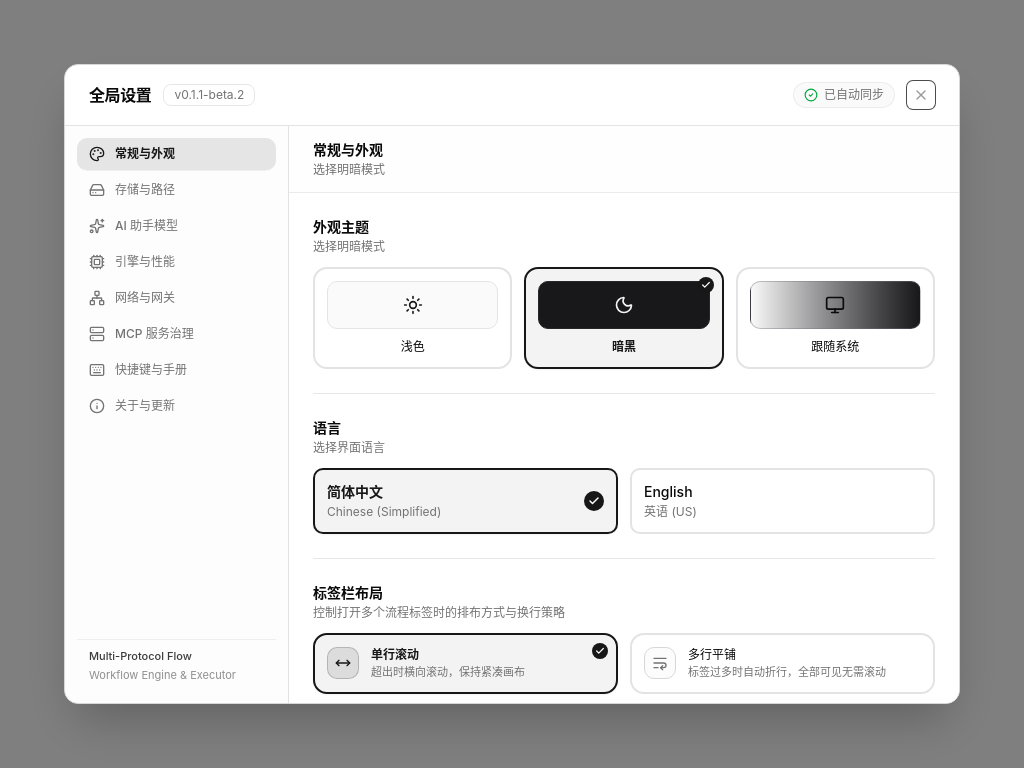
it: SettingsDialog › 切换到存储 Tab 时展示存储与路径配置项
Step 1. Click the button "存储与路径" → (176, 190), box [77,174,276,206]
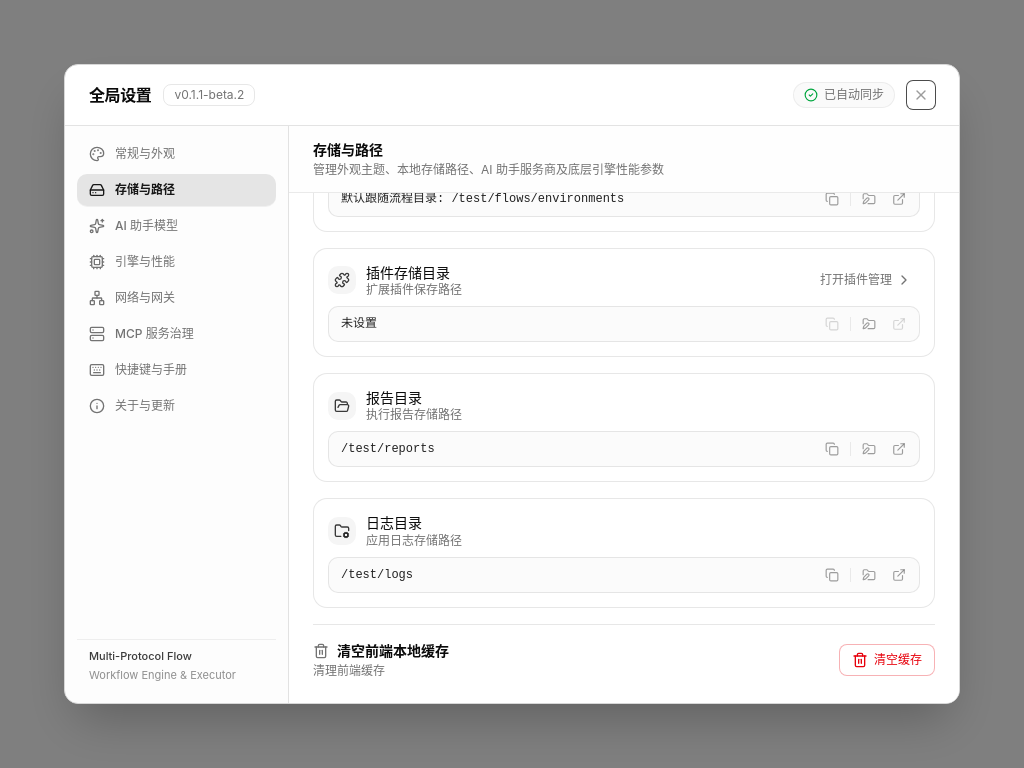
Expected: the text "插件存储目录" is shown, [366,263,450,282]
Expected: the text "报告目录" is shown, [366,388,422,407]
Expected: the text "日志目录" is shown, [366,513,422,533]
